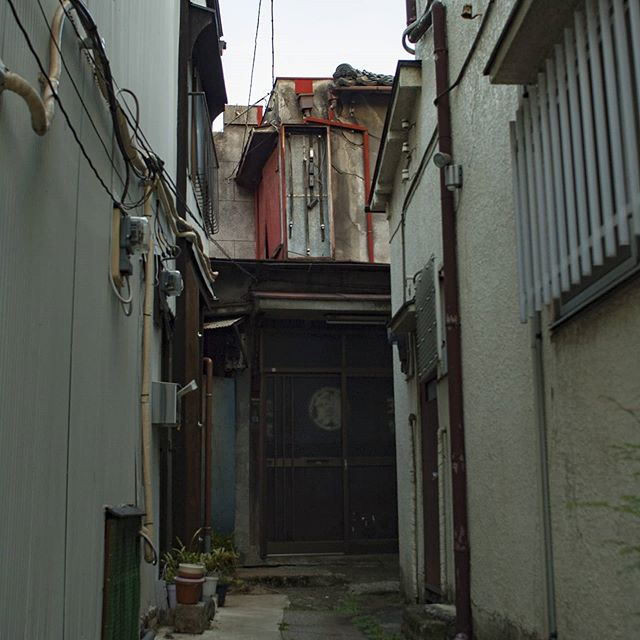building: (391, 1, 640, 625), (1, 3, 233, 640), (215, 74, 388, 567)
